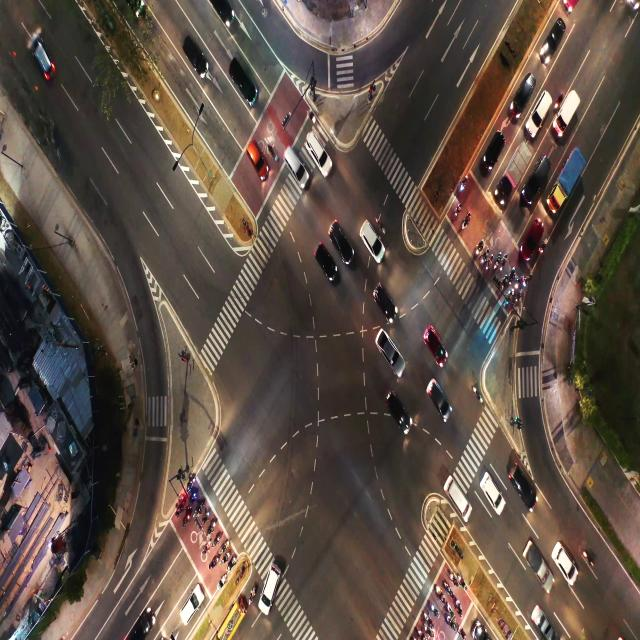bus: (219, 605, 243, 636)
car: (32, 33, 54, 78), (183, 45, 210, 80), (232, 64, 256, 100), (247, 136, 266, 178), (302, 131, 326, 164), (285, 149, 305, 183), (380, 332, 399, 367), (513, 467, 535, 497), (373, 282, 392, 316), (482, 474, 502, 506), (134, 605, 156, 634), (425, 326, 444, 359), (182, 589, 203, 617), (387, 392, 406, 422), (430, 382, 449, 412), (448, 480, 465, 510), (266, 572, 280, 608), (531, 160, 547, 190), (317, 243, 331, 276), (532, 98, 552, 121), (330, 222, 349, 246), (362, 222, 377, 250), (560, 548, 573, 580), (545, 24, 562, 47), (486, 138, 500, 164), (525, 226, 540, 250), (518, 76, 531, 103), (535, 609, 548, 631)
motorcycle: (436, 584, 446, 606), (459, 575, 470, 593), (525, 273, 535, 291), (582, 552, 594, 567), (376, 216, 385, 235), (446, 600, 455, 619), (268, 145, 278, 162), (456, 596, 464, 617), (306, 108, 316, 123), (473, 240, 485, 252), (452, 204, 462, 218), (474, 386, 482, 403), (206, 522, 218, 533), (248, 586, 256, 602), (460, 176, 468, 192), (174, 504, 184, 516), (451, 569, 457, 589), (416, 625, 425, 638), (463, 211, 470, 227), (186, 476, 197, 486), (226, 560, 236, 570), (208, 557, 217, 568), (219, 574, 226, 588), (203, 542, 211, 554), (431, 603, 439, 615), (555, 93, 561, 109), (185, 512, 192, 525), (540, 240, 547, 253), (508, 269, 514, 284), (220, 541, 228, 552), (444, 581, 452, 592), (507, 290, 513, 304), (460, 624, 466, 638), (422, 614, 431, 623), (482, 250, 490, 260), (426, 625, 432, 638), (501, 275, 506, 290), (446, 619, 455, 627), (202, 512, 209, 522), (501, 256, 506, 270), (516, 291, 523, 300), (515, 278, 522, 287), (222, 554, 228, 564), (196, 503, 202, 512), (214, 533, 220, 542), (190, 494, 197, 500), (496, 256, 500, 266), (488, 256, 492, 264)
truck: (522, 535, 549, 582), (506, 152, 523, 190), (562, 162, 580, 192), (562, 101, 577, 124)
